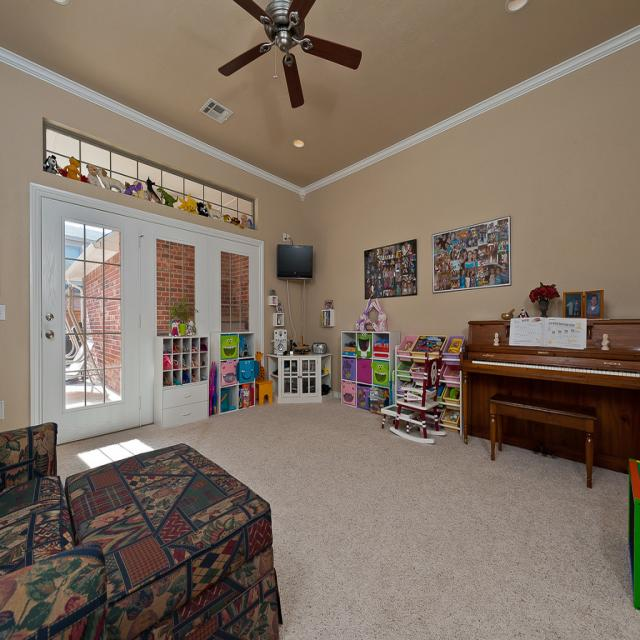Bulb: (218, 0, 362, 109)
